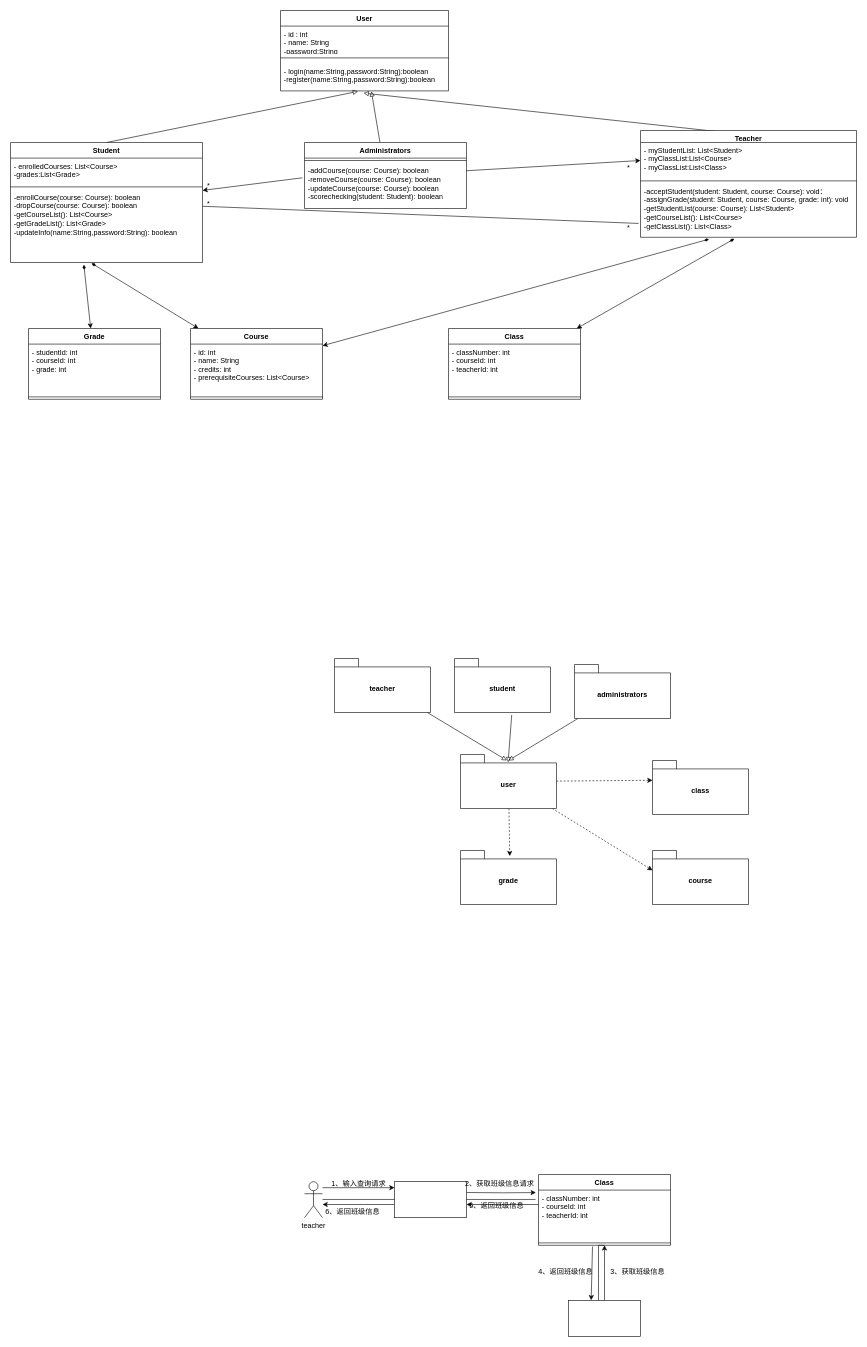
Image size: 867x1347. Some labels were removed from this diagram. The shapes that lost their labels are listed below. From the top down, each one's centre as x and y in pixels, then its label:
the point at 430,1199: 前端
the point at 604,1318: 数据库
